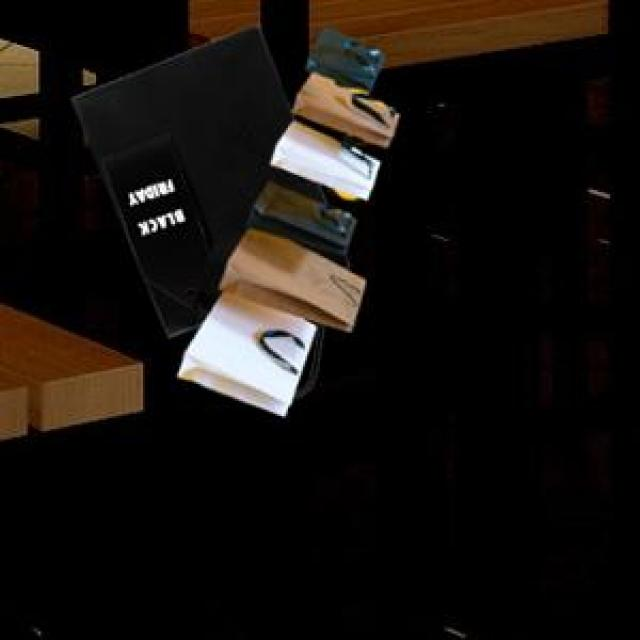Paper -Biodegradable-: (75, 25, 298, 334), (171, 290, 317, 410), (217, 231, 369, 325), (267, 122, 380, 198), (298, 72, 397, 140), (256, 184, 356, 239)
